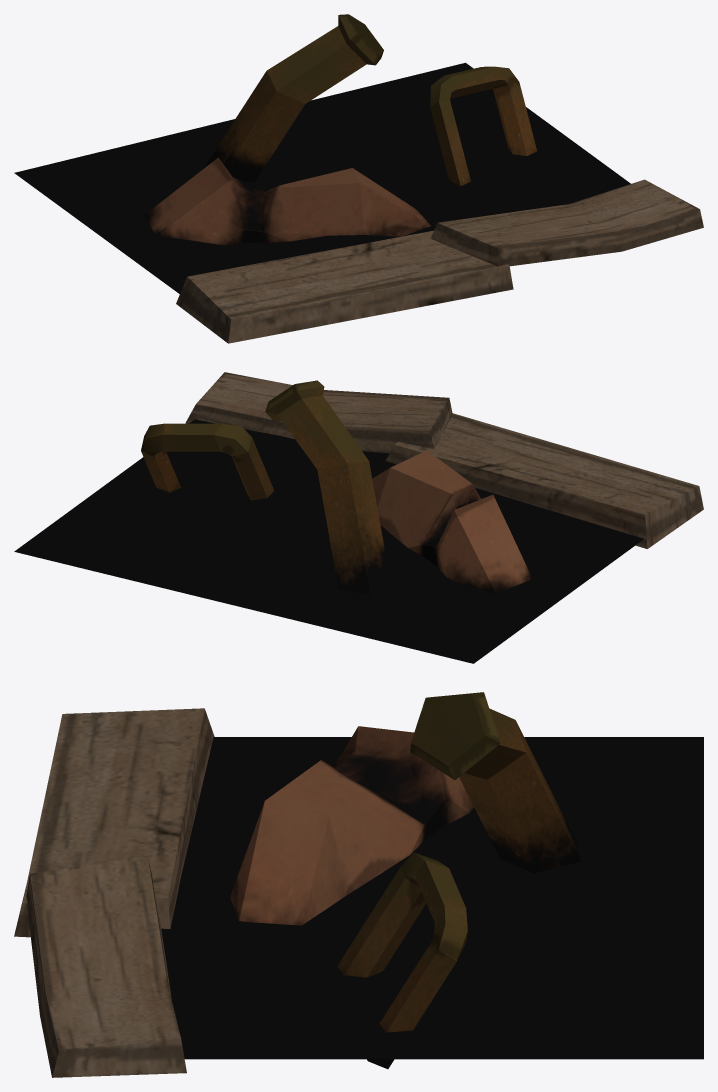
File: pitFall_side01.fbx
The picture shows the model from 3 angles, top to bottom: view 1: azimuth 30°, elevation 25°; view 2: azimuth 150°, elevation 25°; view 3: azimuth 270°, elevation 25°; orthographic projection. The views are drawn at different scales.
Parts seen in each view (by area): view 1: pitFall_side01; view 2: pitFall_side01; view 3: pitFall_side01.
Boxes of the visible parts, box(x1,y1,x2,y2) form: pitFall_side01: box(14, 14, 703, 343); pitFall_side01: box(14, 372, 703, 663); pitFall_side01: box(14, 692, 703, 1077).
Size of the model in its own units: 105 by 44.86 by 90.53.
